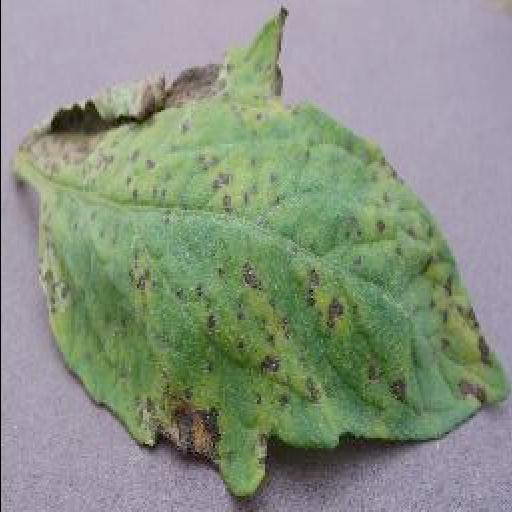disease_tomato: (14, 14, 510, 491)
